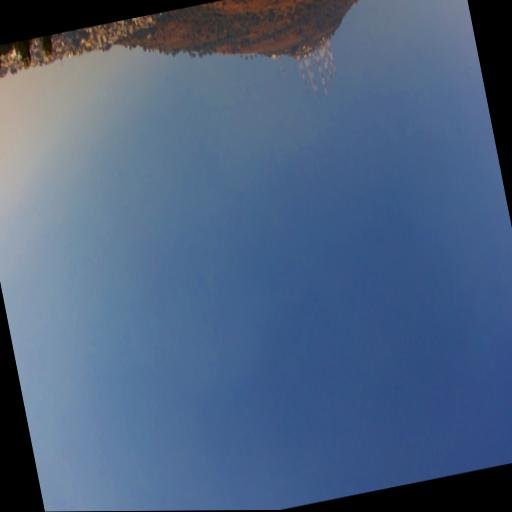drones: (240, 18, 245, 23)
